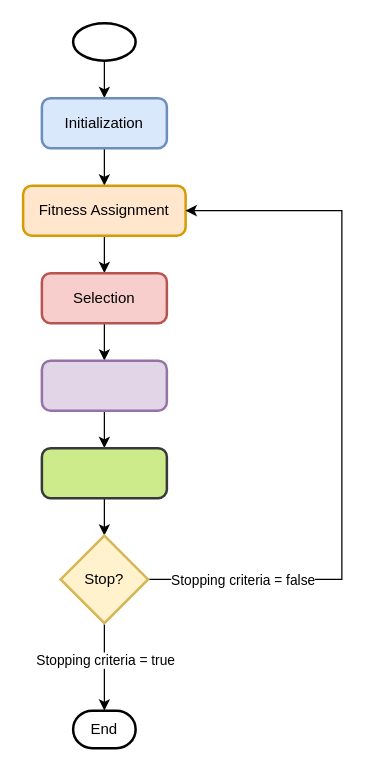
The diagram is 374 pixels wide and 770 high, and some of its shapes have lost their labels. Each missing label, with the box of its shape:
Crossover: (40, 359, 168, 411)
Mutation: (40, 446, 168, 499)
Start: (71, 21, 136, 61)
